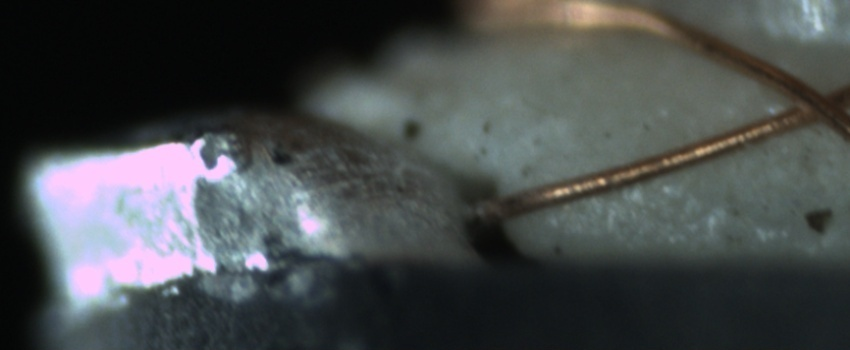CL: (765, 68, 850, 135)
